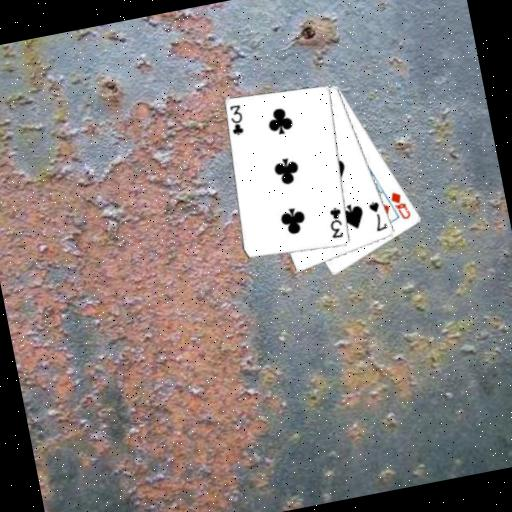3C: (324, 203, 347, 241), (225, 101, 248, 139)
7S: (365, 197, 390, 235)
QD: (387, 186, 414, 223)
